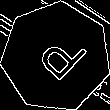P_SW: (25, 25, 87, 88)
